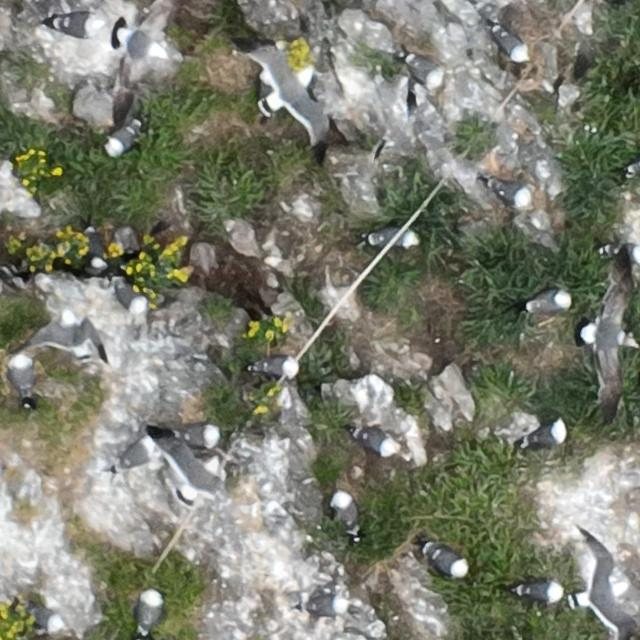F: (579, 252, 637, 420), (256, 44, 325, 144), (576, 535, 632, 640), (23, 304, 110, 364), (167, 444, 228, 507), (110, 8, 175, 67)
umineko: (113, 275, 151, 317), (362, 228, 423, 247), (488, 180, 531, 206), (403, 55, 442, 83), (83, 223, 105, 271), (49, 14, 96, 36), (26, 605, 66, 630), (429, 548, 466, 574), (120, 440, 154, 468), (136, 592, 161, 630), (497, 31, 528, 61), (357, 432, 397, 454), (108, 124, 138, 152), (302, 596, 344, 616), (520, 582, 562, 601), (529, 292, 568, 312), (179, 427, 217, 447), (13, 358, 33, 396), (334, 494, 356, 528), (255, 358, 294, 377), (538, 423, 566, 446), (627, 157, 639, 175)
